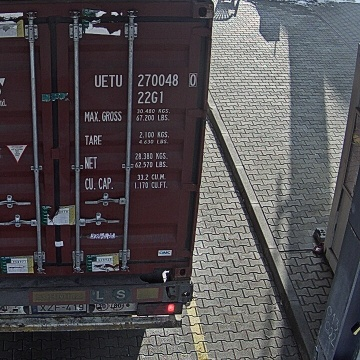serial_id: (95, 74, 196, 87)
